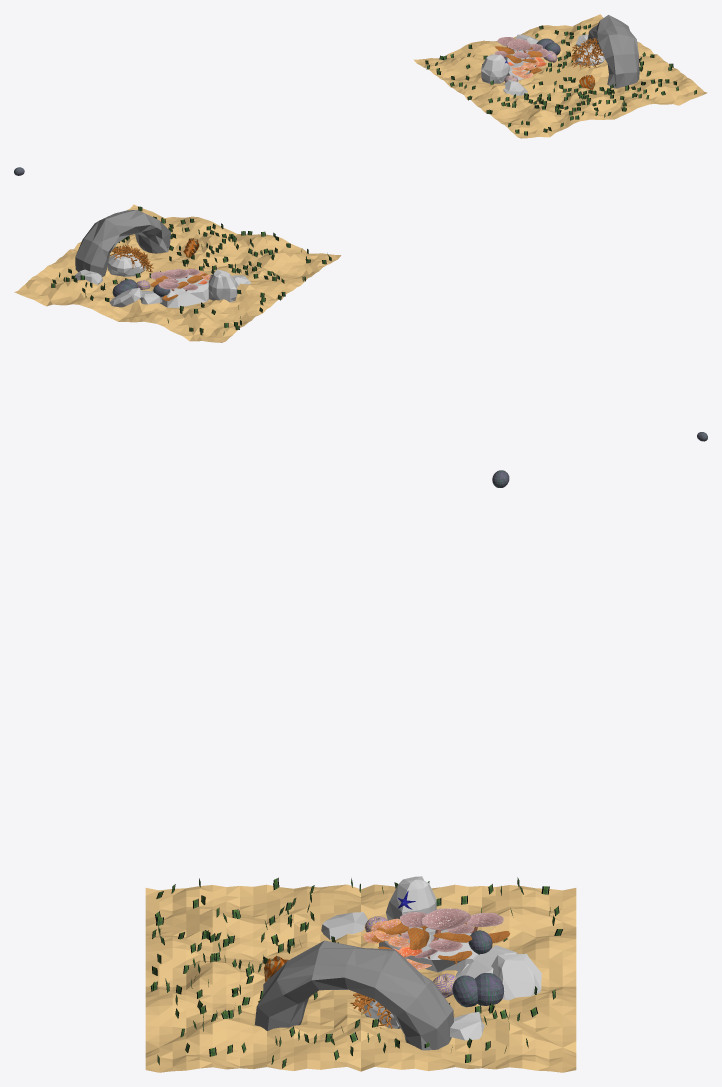
Rendered from enviro.fbx.
The picture shows the model from 3 angles, top to bottom: view 1: azimuth 30°, elevation 25°; view 2: azimuth 150°, elevation 25°; view 3: azimuth 270°, elevation 25°; orthographic projection. The views are drawn at different scales.
Visible parts, largest first — view 1: SandPlaneFlat, Rock_L_Arch_4, Rock_L_Boulder_3, Rock_L_Boulder_3.001, Rock_M_Ground_1; view 2: SandPlaneFlat, Rock_L_Arch_4, Rock_L_Ground_2, Rock_L_Boulder_3, Rock_L_Boulder_3.001, Rock_L_Ground_2.002; view 3: SandPlaneFlat, Rock_L_Arch_4, Rock_L_Ground_2.002, Rock_L_Boulder_3, Rock_L_Ground_2, Rock_M_Ground_1.
Boxes of the visible parts, x1,y1,x2,y2 form: SandPlaneFlat: [414, 14, 707, 138]; Rock_L_Arch_4: [587, 15, 639, 88]; Rock_L_Boulder_3: [481, 54, 509, 83]; Rock_L_Boulder_3.001: [575, 44, 604, 65]; Rock_M_Ground_1: [503, 80, 527, 95]; SandPlaneFlat: [14, 204, 341, 342]; Rock_L_Arch_4: [75, 210, 170, 276]; Rock_L_Ground_2: [152, 275, 209, 307]; Rock_L_Boulder_3: [208, 269, 237, 302]; Rock_L_Boulder_3.001: [107, 253, 145, 276]; Rock_L_Ground_2.002: [109, 288, 142, 307]; SandPlaneFlat: [145, 884, 576, 1072]; Rock_L_Arch_4: [255, 940, 453, 1050]; Rock_L_Ground_2.002: [491, 953, 541, 1000]; Rock_L_Boulder_3: [386, 876, 436, 922]; Rock_L_Ground_2: [379, 927, 478, 972]; Rock_M_Ground_1: [321, 912, 367, 940].
Bounding box in the file's own units: 5166 × 616 × 1593.
